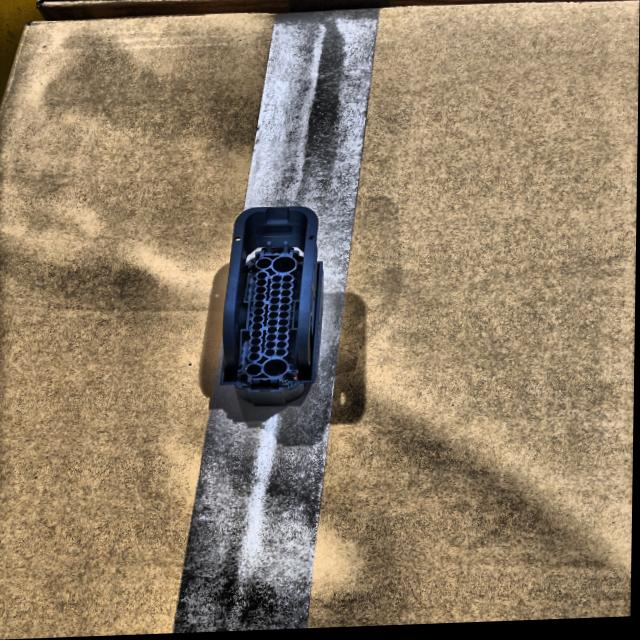P38: (221, 208, 324, 409)
